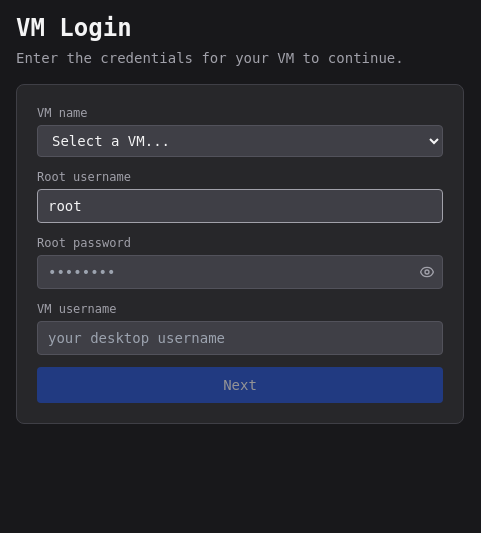
Test: VmLoginPage — standalone mode › shows an error and does not save when the root credentials are invalid
Select "FedoraBox" in the dropdown at coordinates (240, 141), box [37, 125, 443, 157]
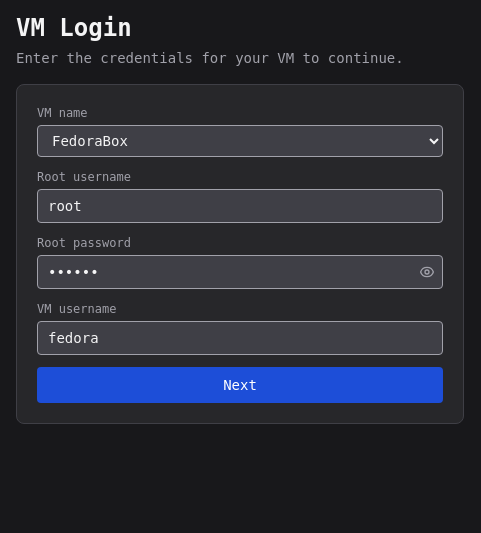
Click the button "Next".
click(240, 385)  # box [37, 367, 443, 403]
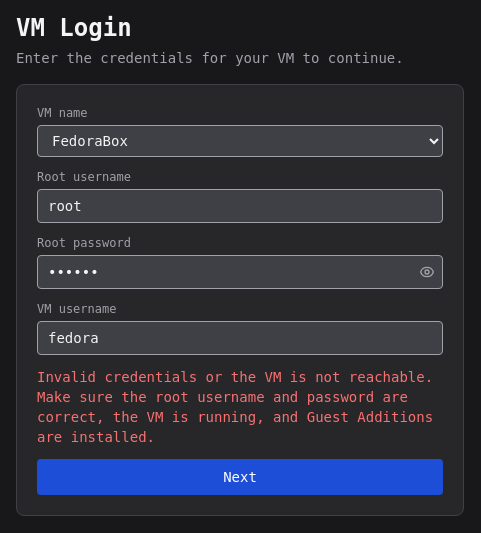
Now the text "Invalid credentials or the VM is not reachable" is shown, box [37, 369, 433, 445]
